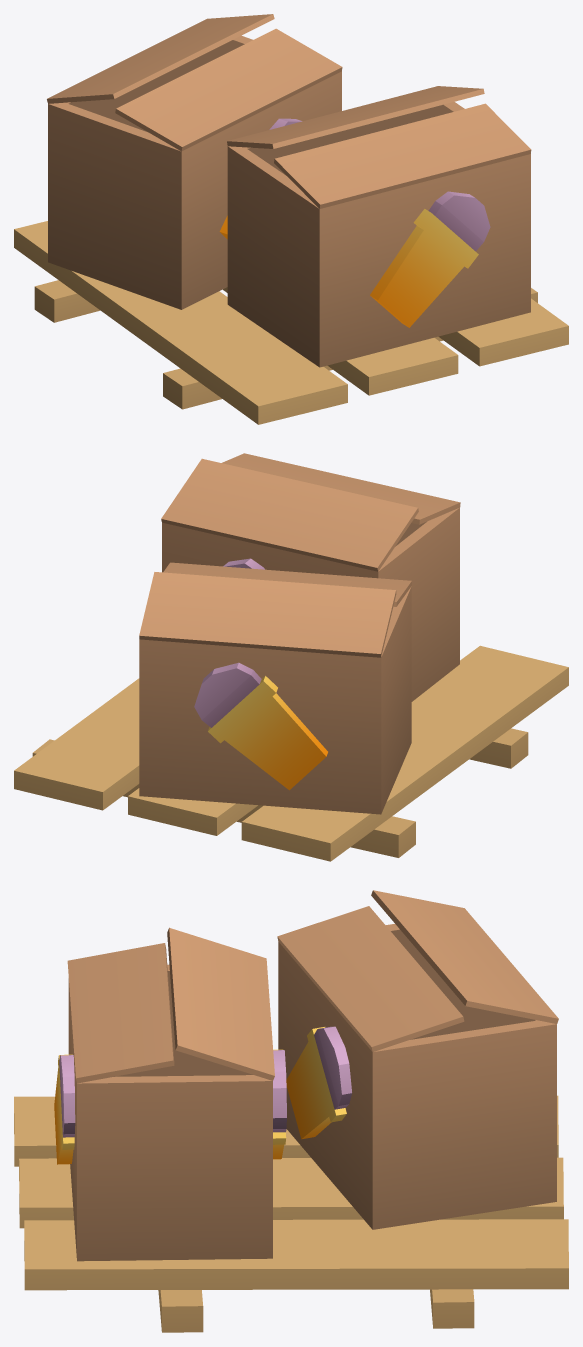
Rendered from icecream boxes.fbx.
3 views of the same model, one above another, from view 1: azimuth 30°, elevation 25°; view 2: azimuth 150°, elevation 25°; view 3: azimuth 270°, elevation 25° (orthographic). The views are drawn at different scales.
Visible parts, largest first — view 1: icecream_boxes; view 2: icecream_boxes; view 3: icecream_boxes.
Part boxes in pixels (bbox=[...]): icecream_boxes: bbox=[14, 14, 568, 424]; icecream_boxes: bbox=[14, 453, 568, 861]; icecream_boxes: bbox=[14, 890, 568, 1332].
Bounding box in the file's own units: 288 × 173 × 333.
Materials: 1 (1 with a texture image).
